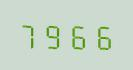nine: (42, 19, 65, 49)
seven: (18, 19, 41, 49)
six: (66, 20, 89, 50), (90, 20, 113, 50)
